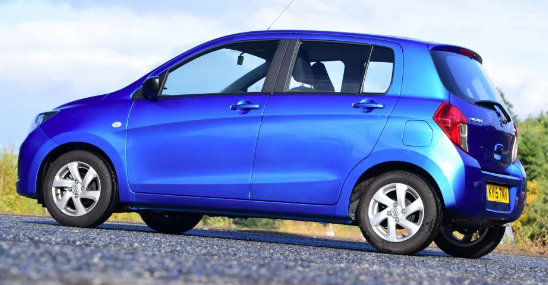car: (13, 26, 531, 263)
